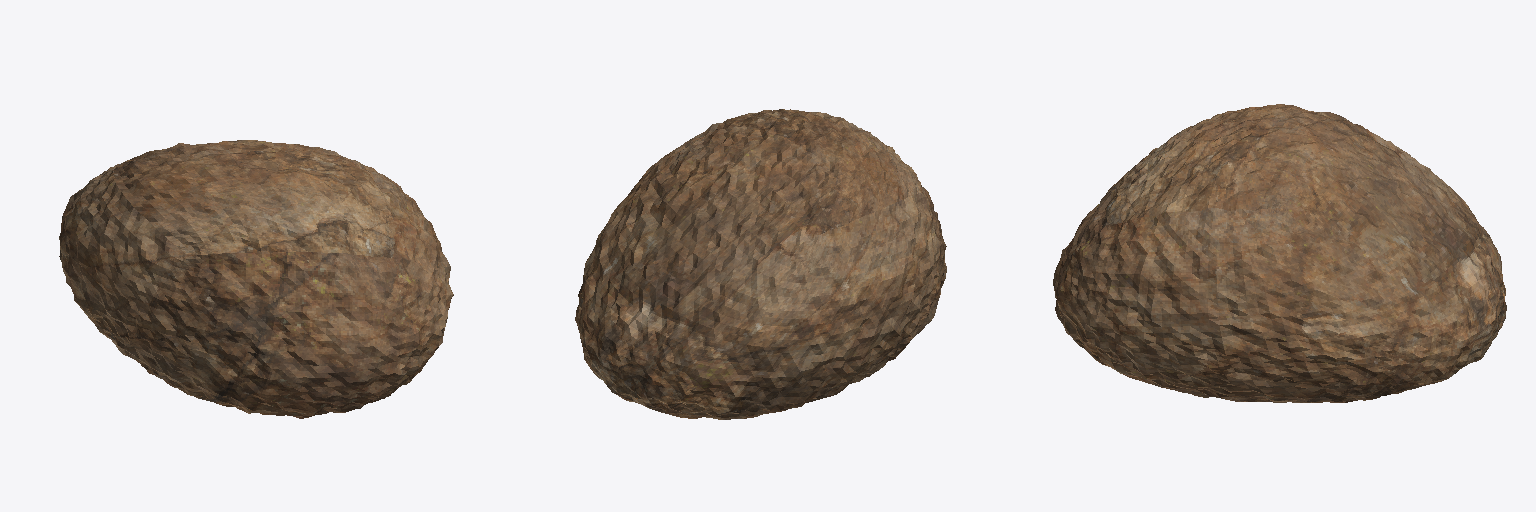
3 views of the same model, side by side, from view 1: azimuth 30°, elevation 25°; view 2: azimuth 150°, elevation 25°; view 3: azimuth 270°, elevation 25° (orthographic).
Parts seen in each view (by area): view 1: rock2; view 2: rock2; view 3: rock2.
Boxes of the visible parts, x1=… form: rock2: x1=59, y1=140, x2=453, y2=418; rock2: x1=575, y1=109, x2=946, y2=419; rock2: x1=1053, y1=104, x2=1506, y2=402.
Size of the model in its own units: 42.93 by 31.48 by 54.81.
Materials: 1 (1 with a texture image).